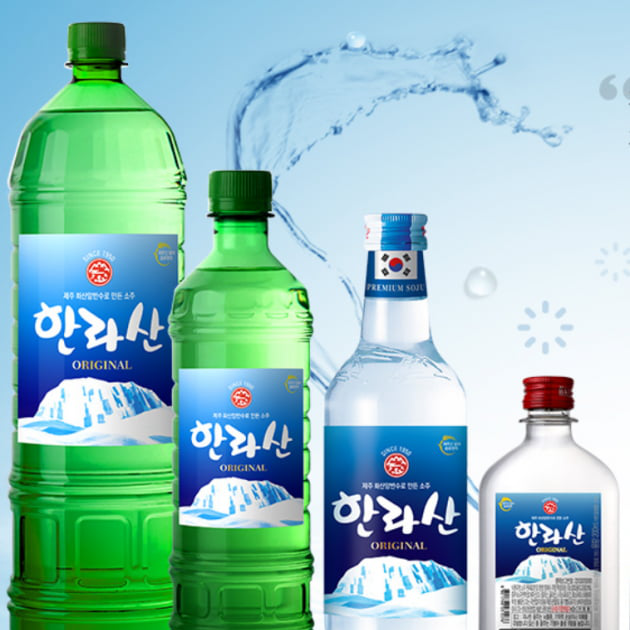soju: (6, 18, 314, 630), (323, 212, 618, 630)
